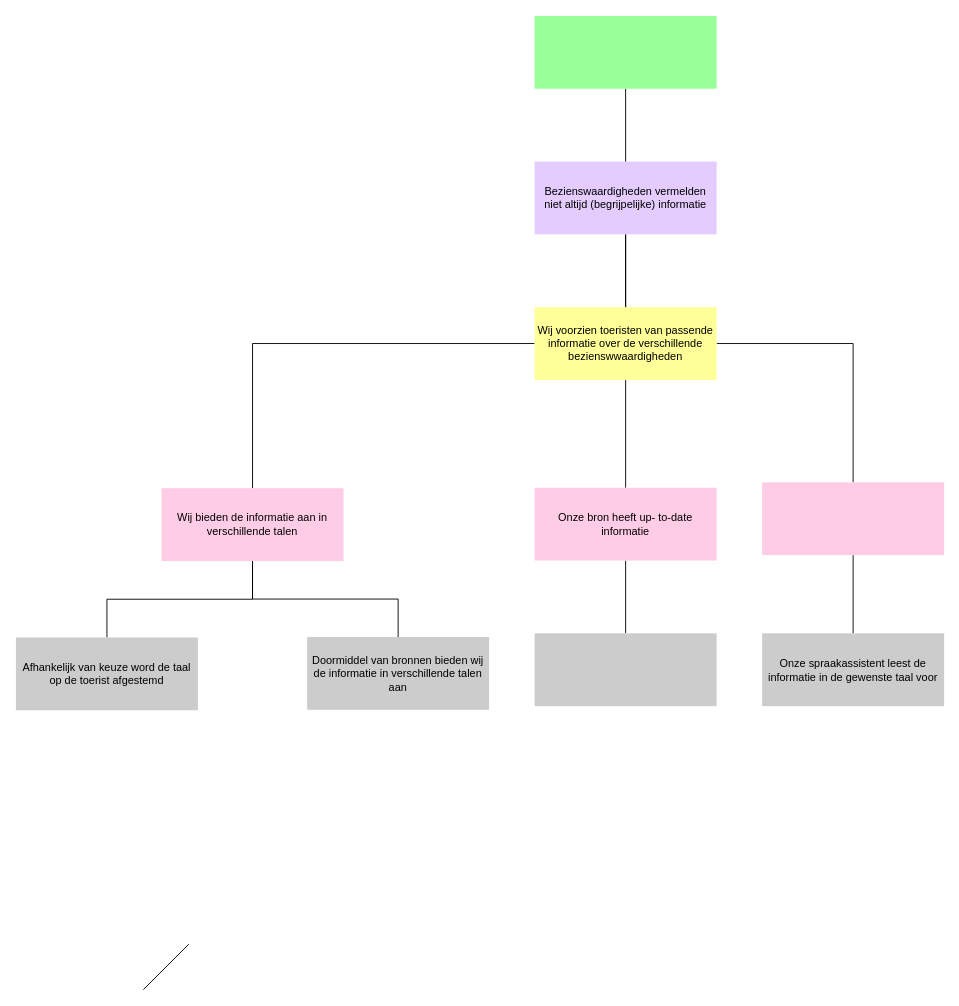
This 959x1006 diagram has some shape labels left out. The shapes that lost their labels are listed below. From the top down, each one's centre as x and y in pixels, then its label:
point (625, 51): Toeristen bezoeken plaatsen om bezienswaardigheden te bezichtigen
point (853, 518): Onze informatie is te beluisteren
point (625, 669): De bron kan altijd en door iedereen bewerkt worden
